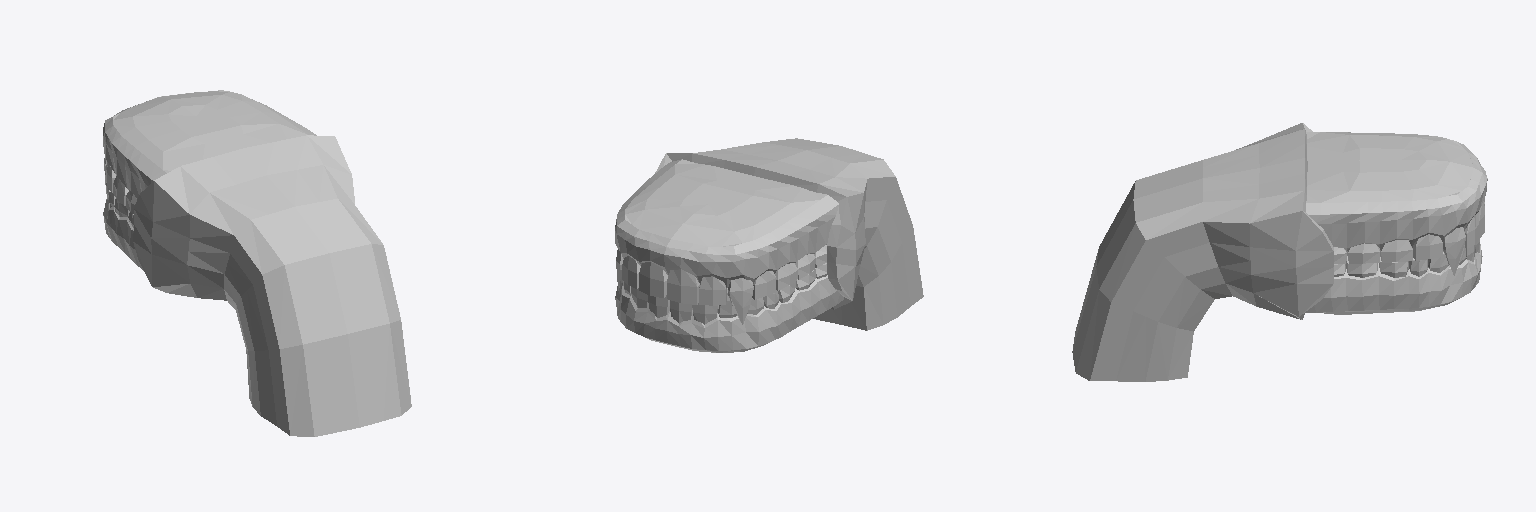
Rendered from Vampire Denture.obj.
3 views of the same model, side by side, from view 1: azimuth 30°, elevation 25°; view 2: azimuth 150°, elevation 25°; view 3: azimuth 270°, elevation 25° (orthographic).
Parts seen in each view (by area): view 1: Vampire_-_Throat, Vampire_-_Upper_Jaw, Vampire_-_Lower_Jaw; view 2: Vampire_-_Upper_Jaw, Vampire_-_Throat, Vampire_-_Lower_Jaw; view 3: Vampire_-_Throat, Vampire_-_Upper_Jaw, Vampire_-_Lower_Jaw.
Boxes of the visible parts, <box> form: Vampire_-_Throat: <box>133,135,411,436</box>; Vampire_-_Upper_Jaw: <box>103,90,316,213</box>; Vampire_-_Lower_Jaw: <box>103,187,143,270</box>; Vampire_-_Upper_Jaw: <box>615,159,838,324</box>; Vampire_-_Throat: <box>655,138,923,330</box>; Vampire_-_Lower_Jaw: <box>615,263,843,352</box>; Vampire_-_Throat: <box>1072,123,1333,381</box>; Vampire_-_Upper_Jaw: <box>1306,132,1487,275</box>; Vampire_-_Lower_Jaw: <box>1305,239,1482,314</box>.
Bounding box in the file's own units: 0.1085 × 0.1057 × 0.2023.